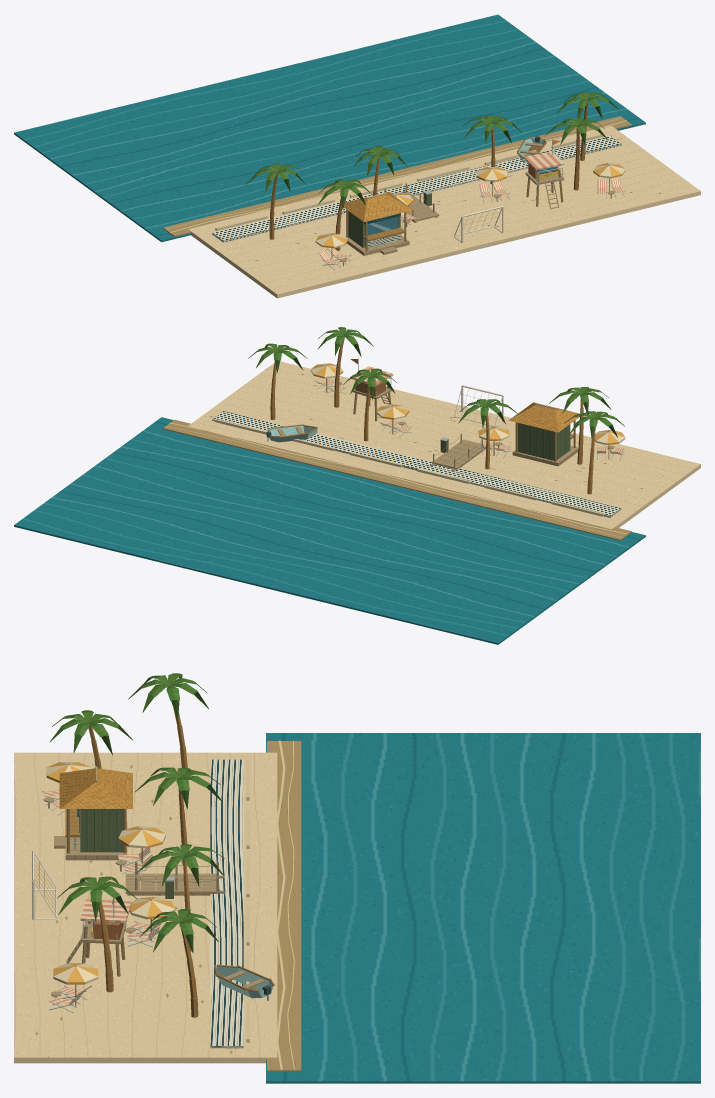
Rendered from beach-lod2.glb.
3 renders of one model, top to bottom at view 1: azimuth 30°, elevation 25°; view 2: azimuth 150°, elevation 25°; view 3: azimuth 270°, elevation 25°, orthographic. The views are drawn at different scales.
Parts seen in each view (by area): view 1: beach-lod2; view 2: beach-lod2; view 3: beach-lod2.
Part boxes in pixels (x1=…): beach-lod2: x1=14, y1=14, x2=700, y2=298; beach-lod2: x1=14, y1=327, x2=700, y2=644; beach-lod2: x1=14, y1=673, x2=700, y2=1083.
Bounding box in the file's own units: 36 × 5.56 × 30.
1 material, 1 textured.
